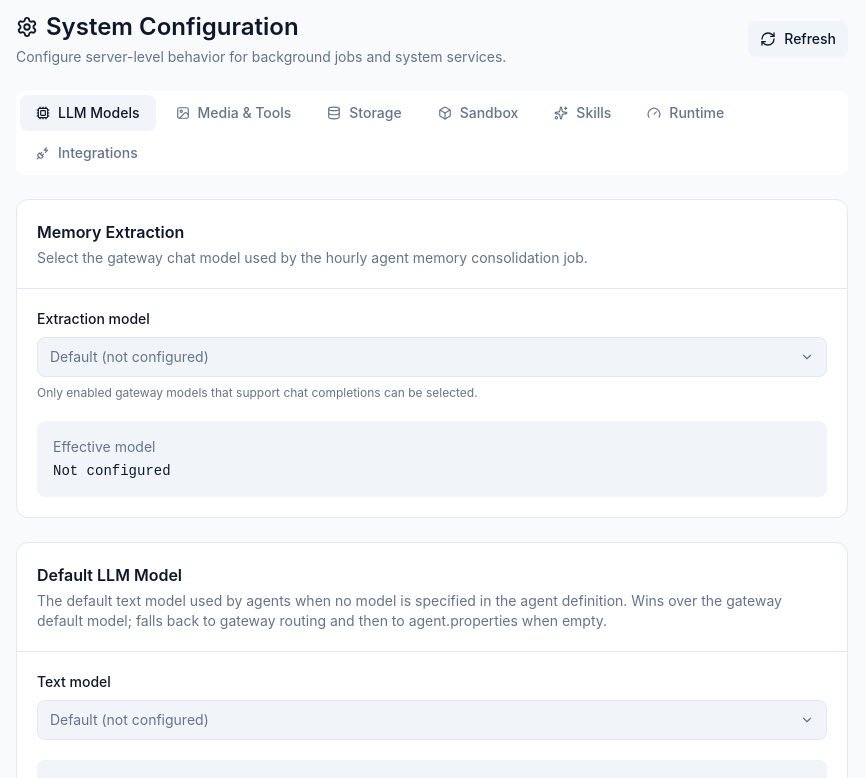
Test: SystemSettings skill repo sync control › blocks saving an out-of-range interval while enabled
Click the button "Skills" at point(583, 113), box [538,95,627,131]
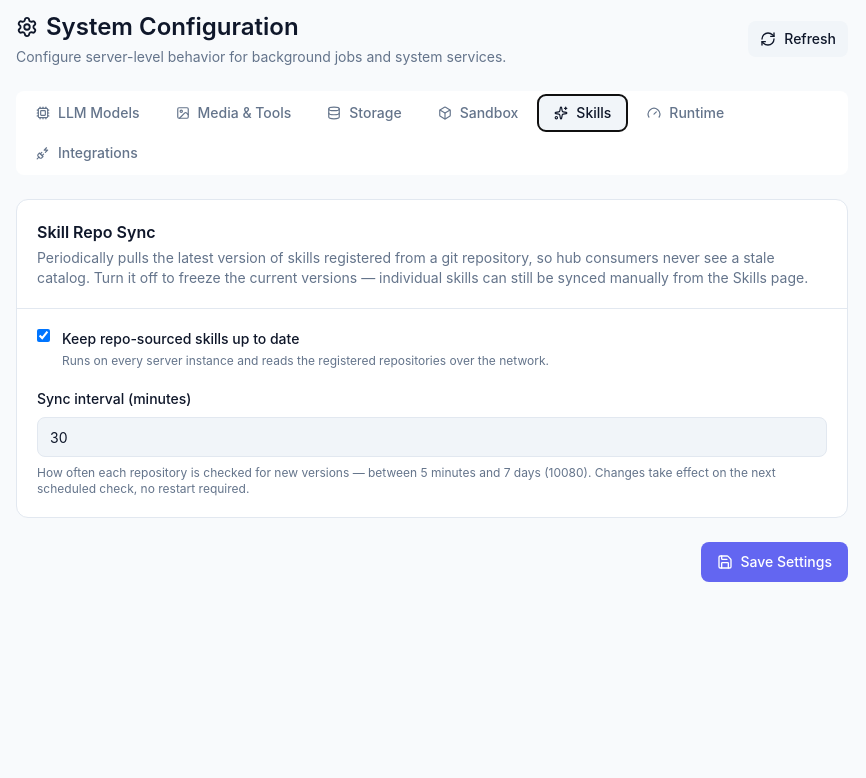
Replace the text in the number field labelled "Sync interval" with "3" at point(432, 437), box [37,417,827,457]
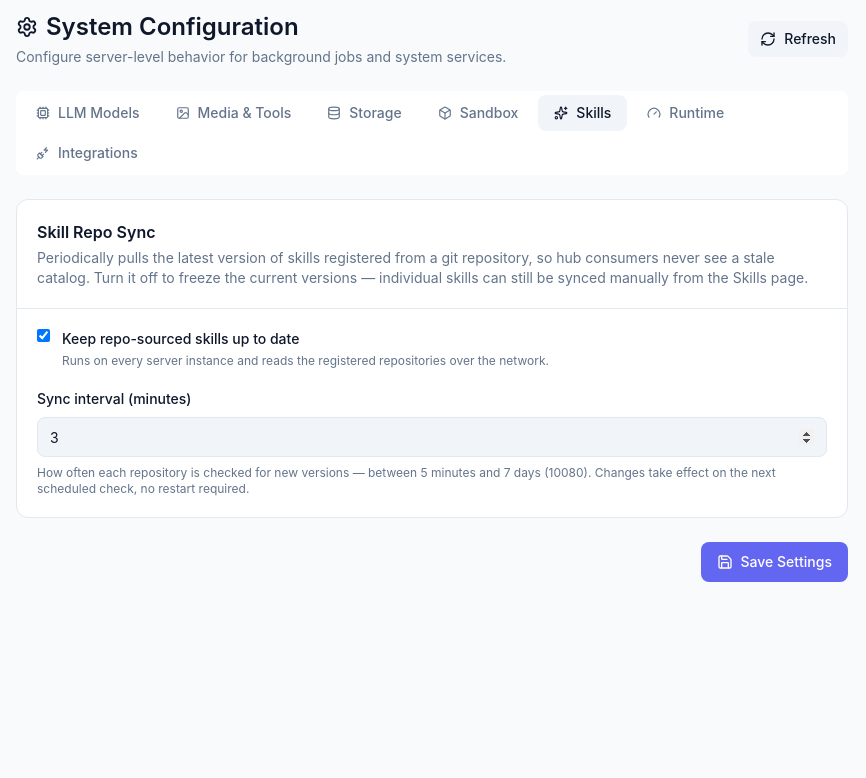
Click the button "Save Settings" at point(774, 562), box [701,542,848,582]
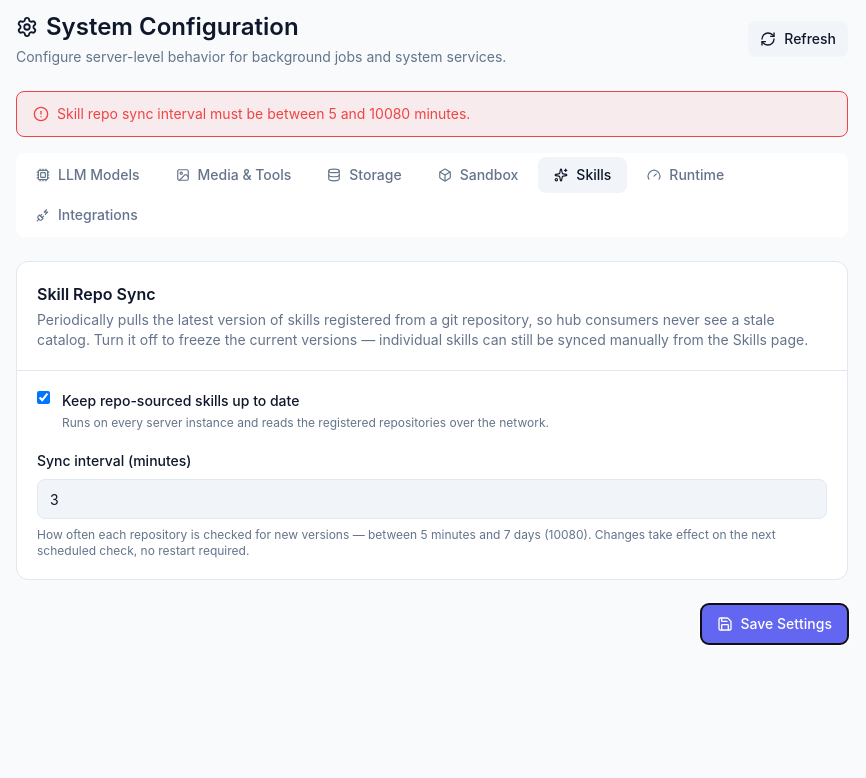
Expected: the text "between 5 and 10080 minutes" is shown, [57,105,470,122]
